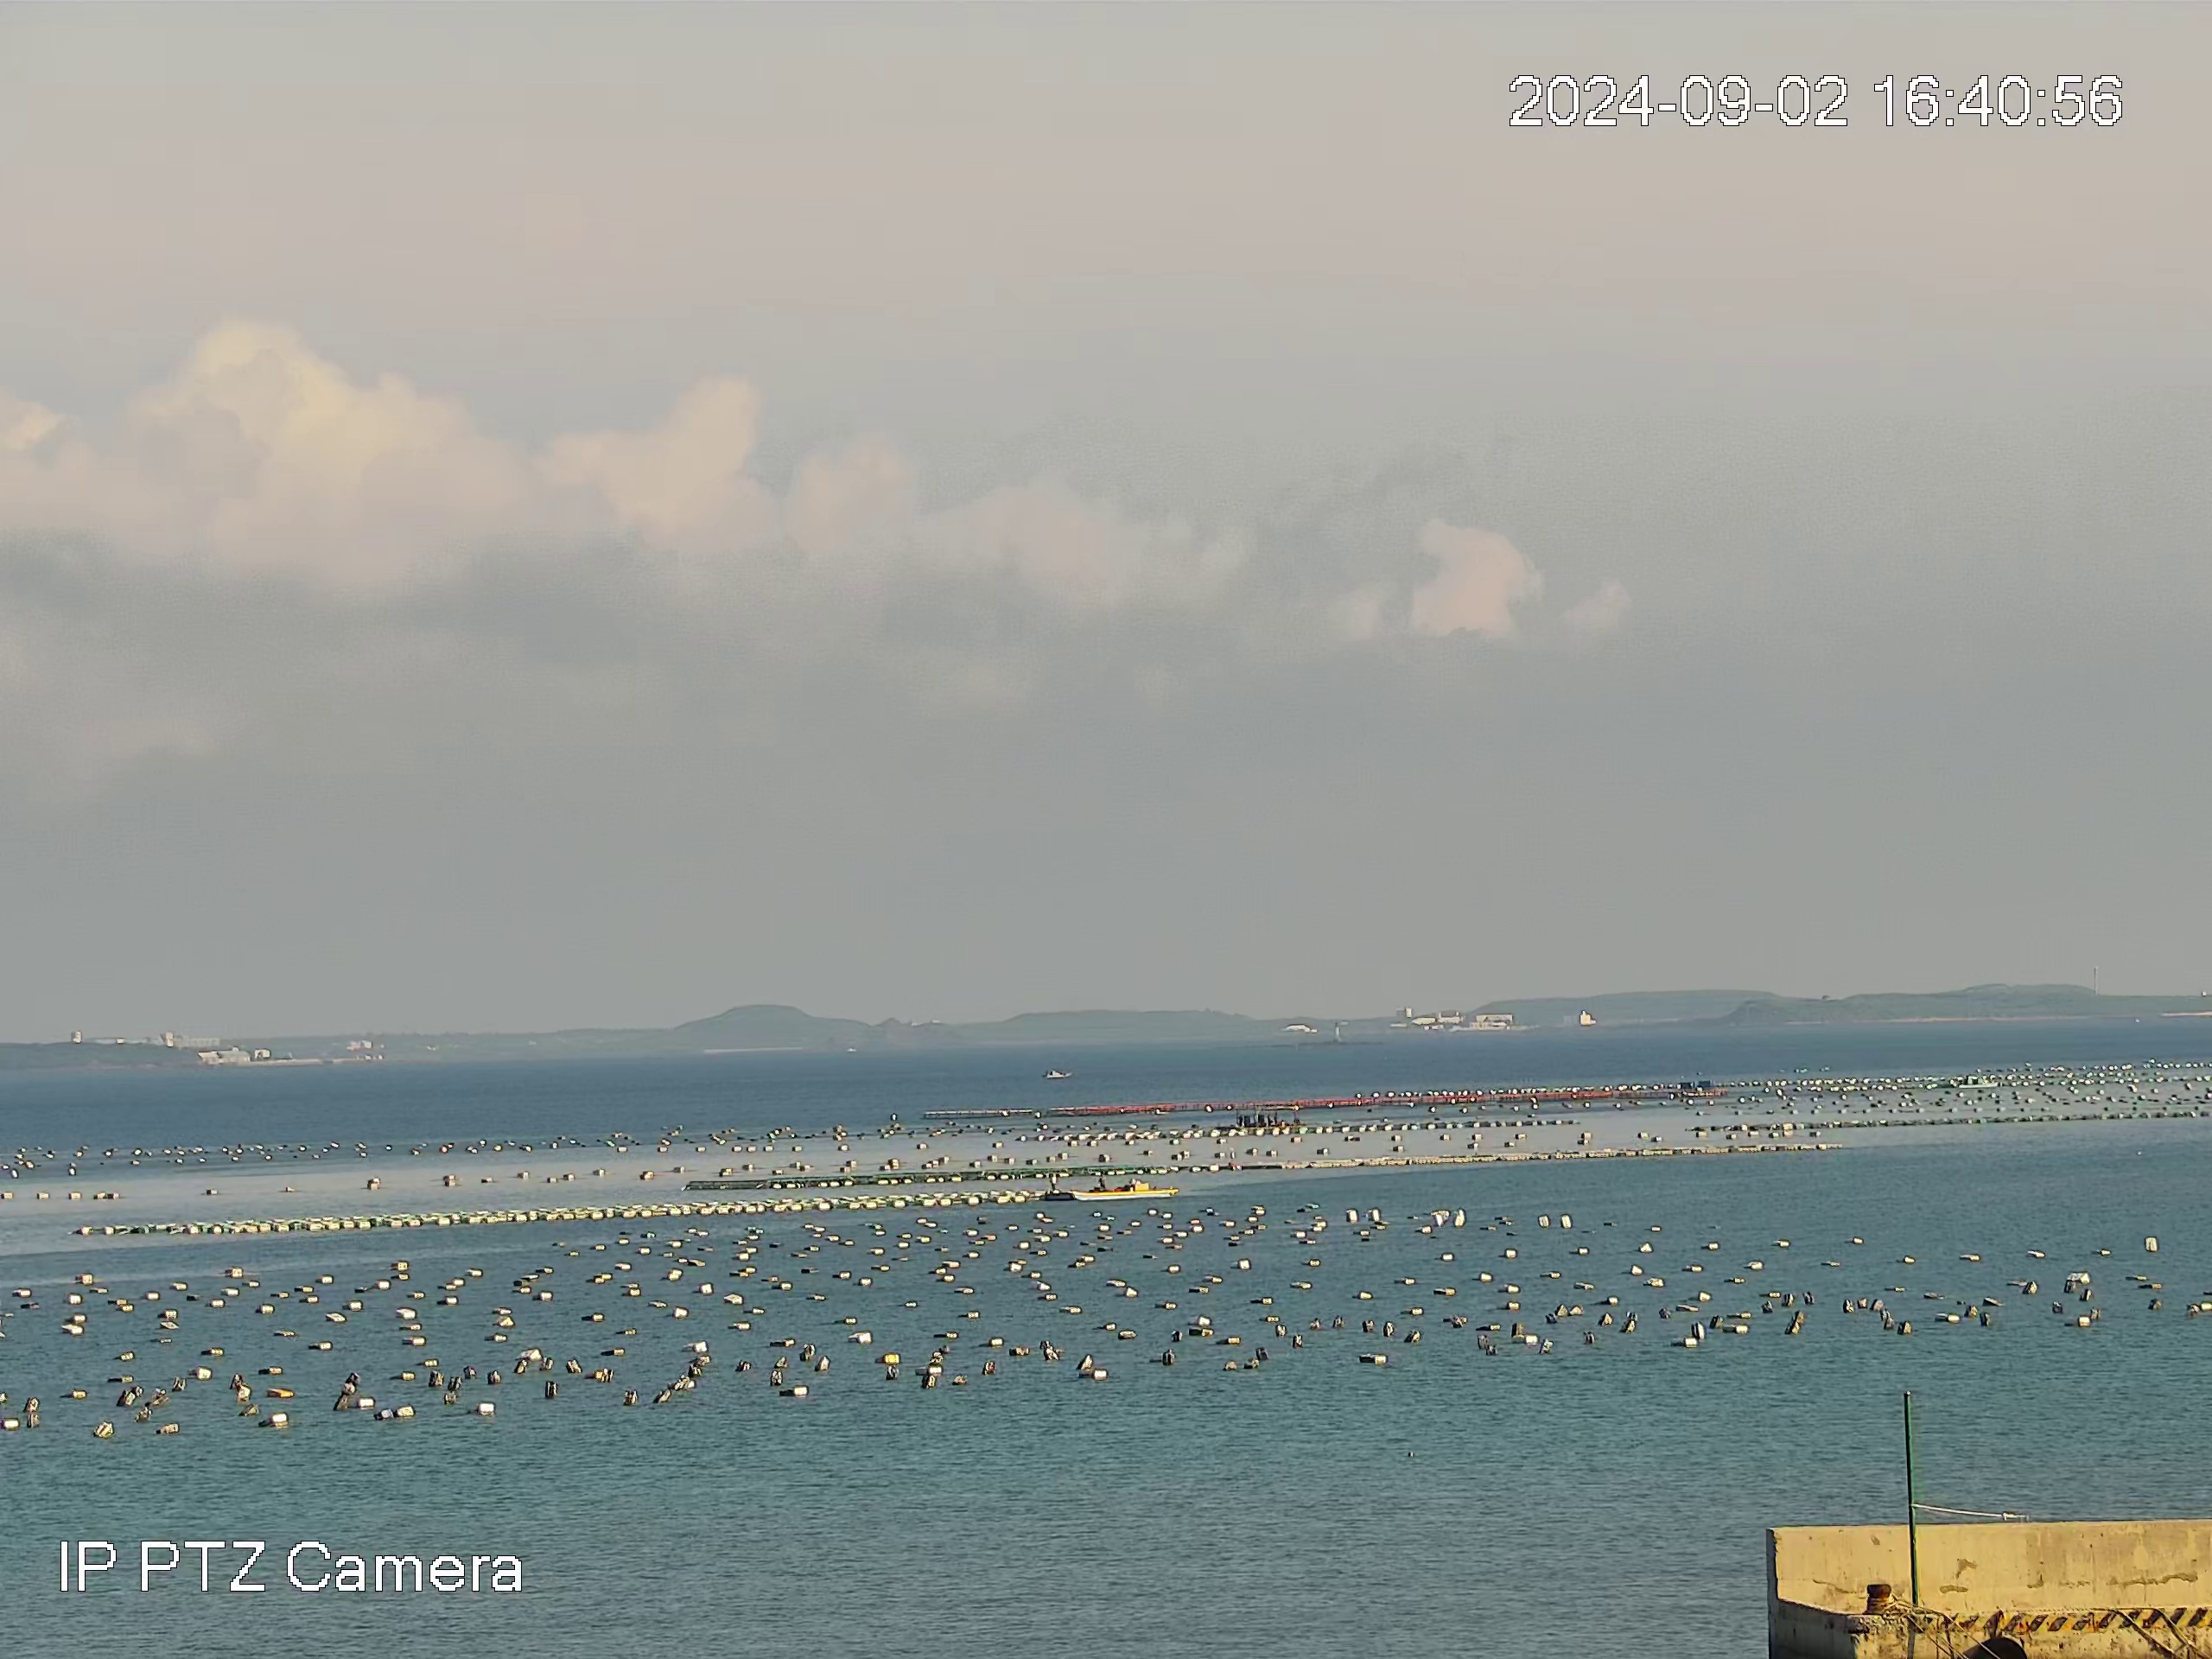boat: (1038, 1171, 1179, 1202), (1233, 1103, 1303, 1131), (1958, 1073, 2000, 1089), (1043, 1068, 1073, 1079)
